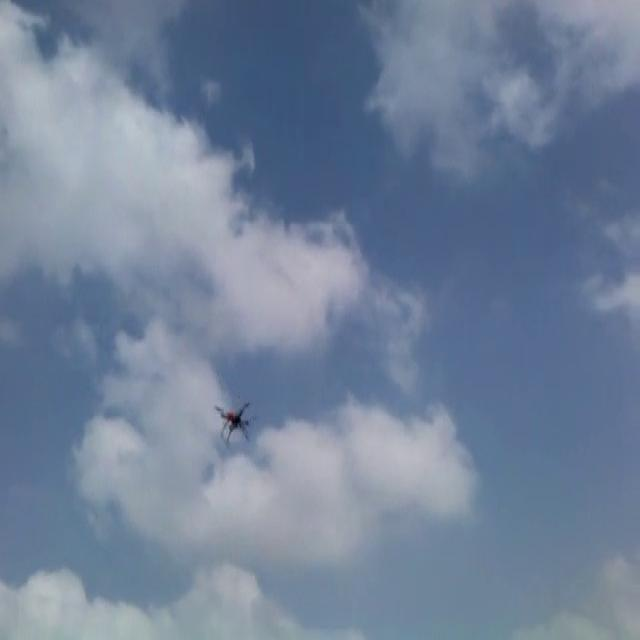drone: (213, 394, 256, 442)
